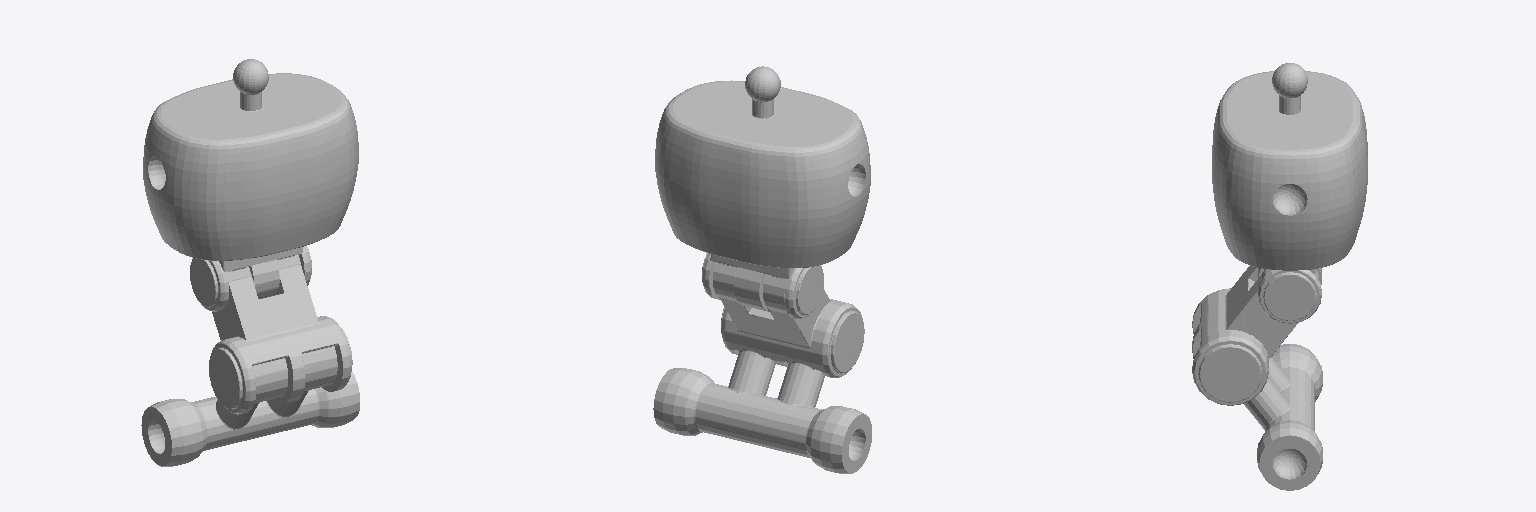
The model's file is WALLE_E_BODY_HOLLOW_1MM.obj.
3 renders of one model, left to right at view 1: azimuth 30°, elevation 25°; view 2: azimuth 150°, elevation 25°; view 3: azimuth 270°, elevation 25°, orthographic.
Visible parts, largest first — view 1: WALLE_E_BODY_HOLLOW_1MM:Mesh; view 2: WALLE_E_BODY_HOLLOW_1MM:Mesh; view 3: WALLE_E_BODY_HOLLOW_1MM:Mesh.
Part boxes in pixels (bbox=[...]): WALLE_E_BODY_HOLLOW_1MM:Mesh: bbox=[141, 59, 359, 466]; WALLE_E_BODY_HOLLOW_1MM:Mesh: bbox=[653, 66, 871, 473]; WALLE_E_BODY_HOLLOW_1MM:Mesh: bbox=[1192, 63, 1367, 490].
Size of the model in its own units: 12.23 by 23.44 by 9.76.